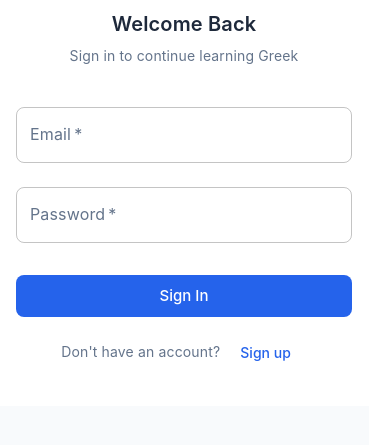
Test: LoginForm Component › displays error on failed login
In the field labelled "Email *": (184, 135) [16, 107, 352, 163], type "test@example.com"
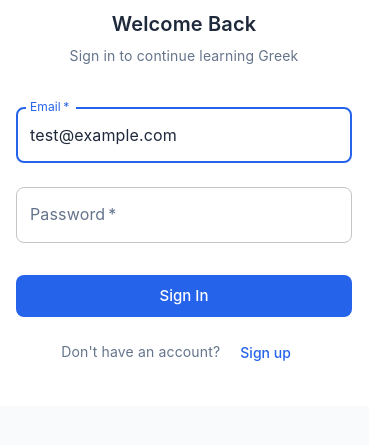
In the password field labelled "Password *": (184, 215) [16, 187, 352, 243], type "wrongpassword"
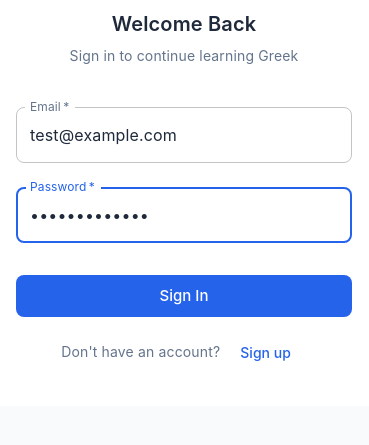
Click the button "Sign In": (184, 296) [16, 275, 352, 317]
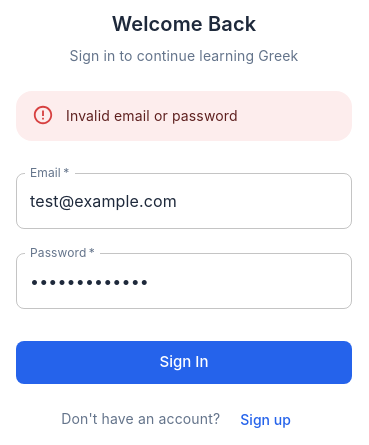
Expected: the text "Invalid email or password" is shown, [66, 107, 238, 124]
